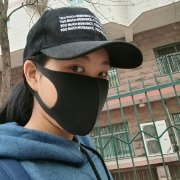face_mask: (42, 40, 110, 135)
